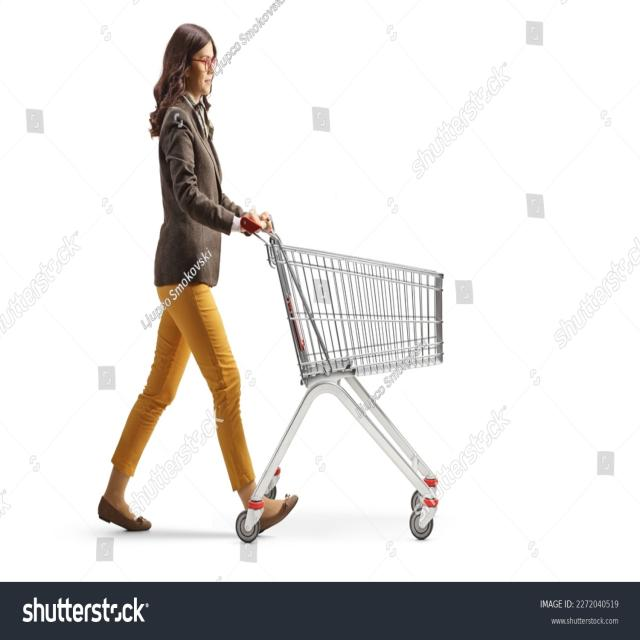Person: (98, 21, 299, 534)
